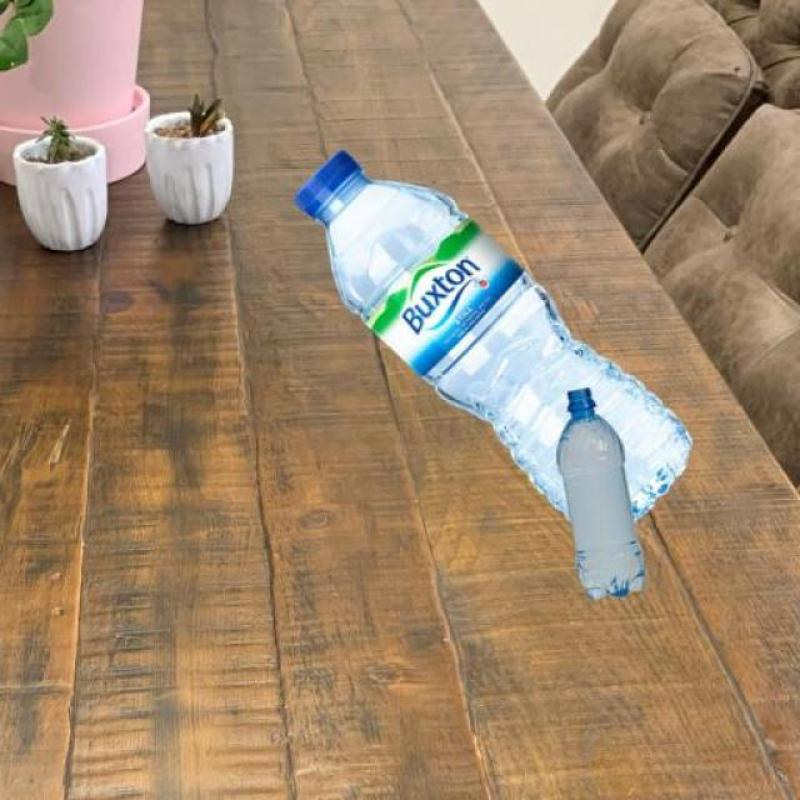botella: (292, 150, 693, 528), (558, 389, 644, 601)
